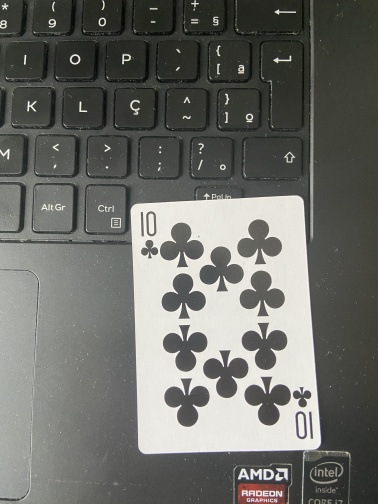ten: (129, 194, 323, 456)
